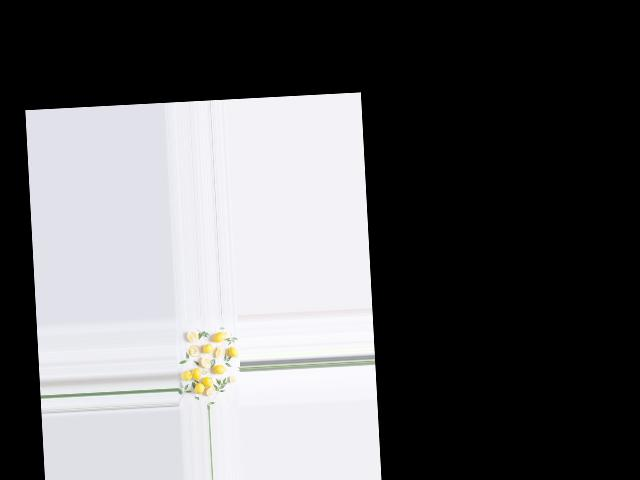lemon: (181, 367, 193, 382)
